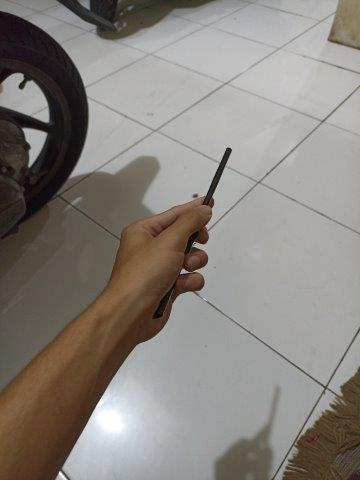sedotan: (153, 147, 231, 318)
